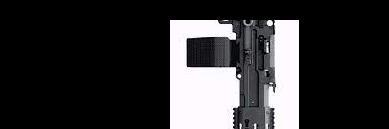larga: (185, 20, 278, 129)
